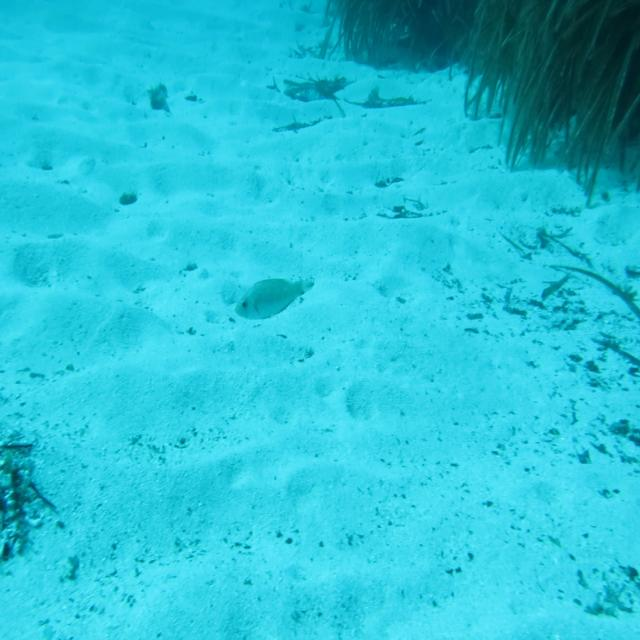BN: (232, 268, 317, 336)
nest: (0, 417, 37, 574)
vegetation: (338, 0, 638, 148), (576, 408, 639, 491)
